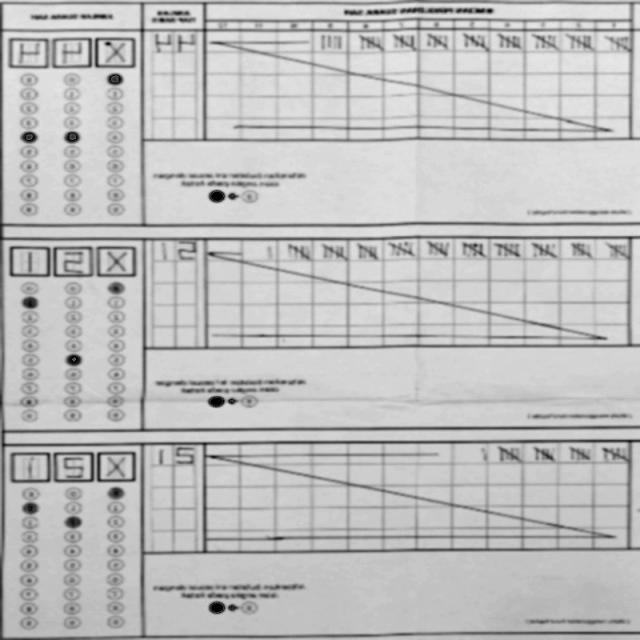Suara: (15, 442, 138, 488), (6, 244, 140, 280), (8, 34, 142, 67)
